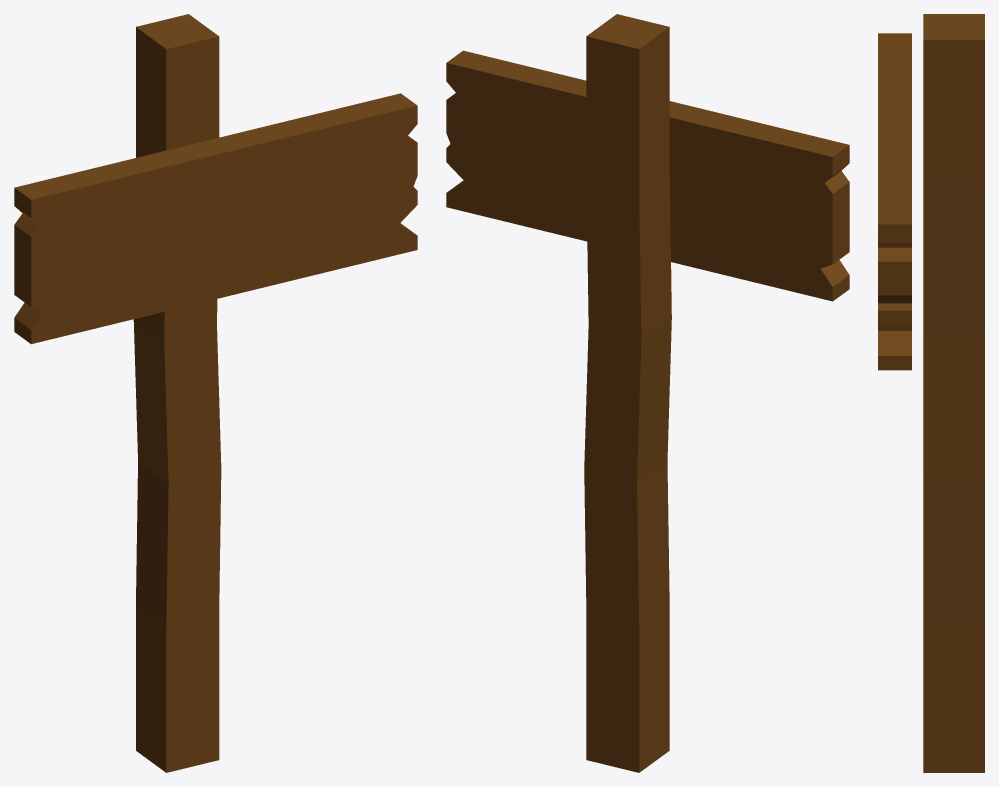
3 views of the same model, side by side, from view 1: azimuth 30°, elevation 25°; view 2: azimuth 150°, elevation 25°; view 3: azimuth 270°, elevation 25° (orthographic).
Visible parts, largest first — view 1: Sign Post 1; view 2: Sign Post 1; view 3: Sign Post 1.
Boxes of the visible parts, x1,y1,x2,y2 form: Sign Post 1: [14, 14, 417, 772]; Sign Post 1: [446, 14, 849, 772]; Sign Post 1: [878, 14, 984, 772].
Size of what is drawn, in the model's own units: 309 by 554 by 73.24.
1 material, 1 textured.
